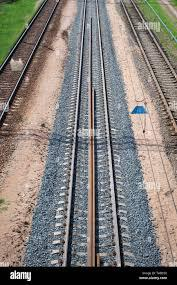Color_steel: (129, 104, 152, 117)
Plastic: (7, 54, 28, 77)
